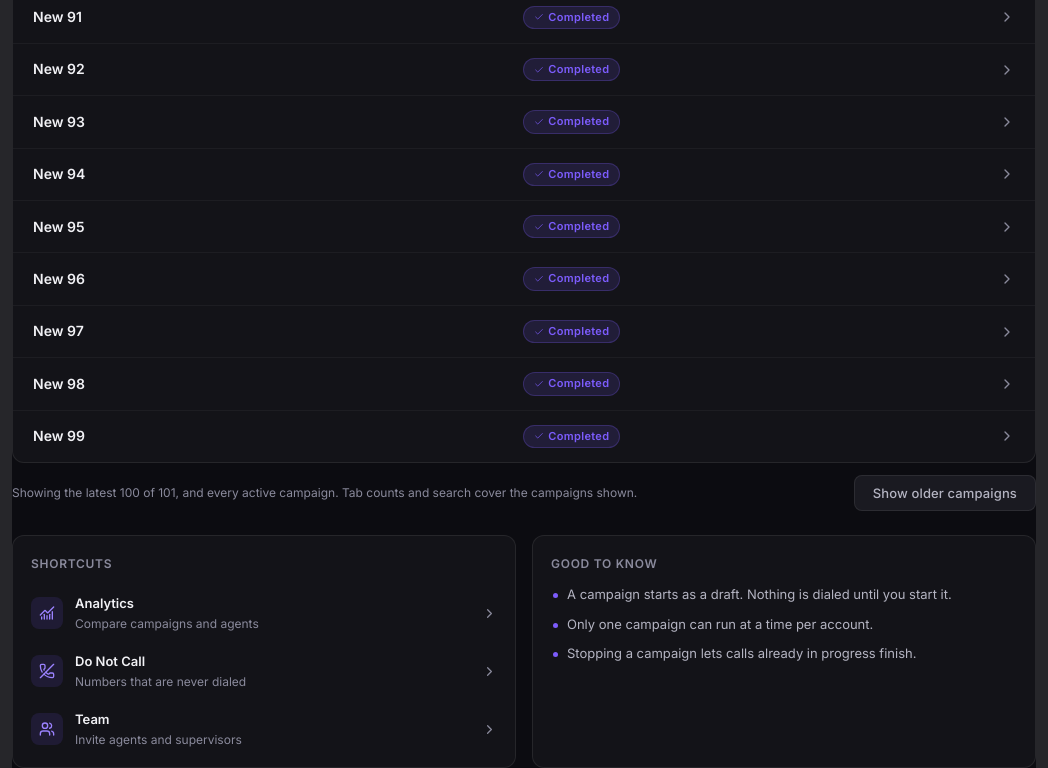
Test: AgencyCampaignsPage — the list › counts the account’s real total and loads older campaigns on request
(page scrolled)
Click the button "Show older campaigns". click: point(945, 493)
box: [854, 475, 1036, 511]
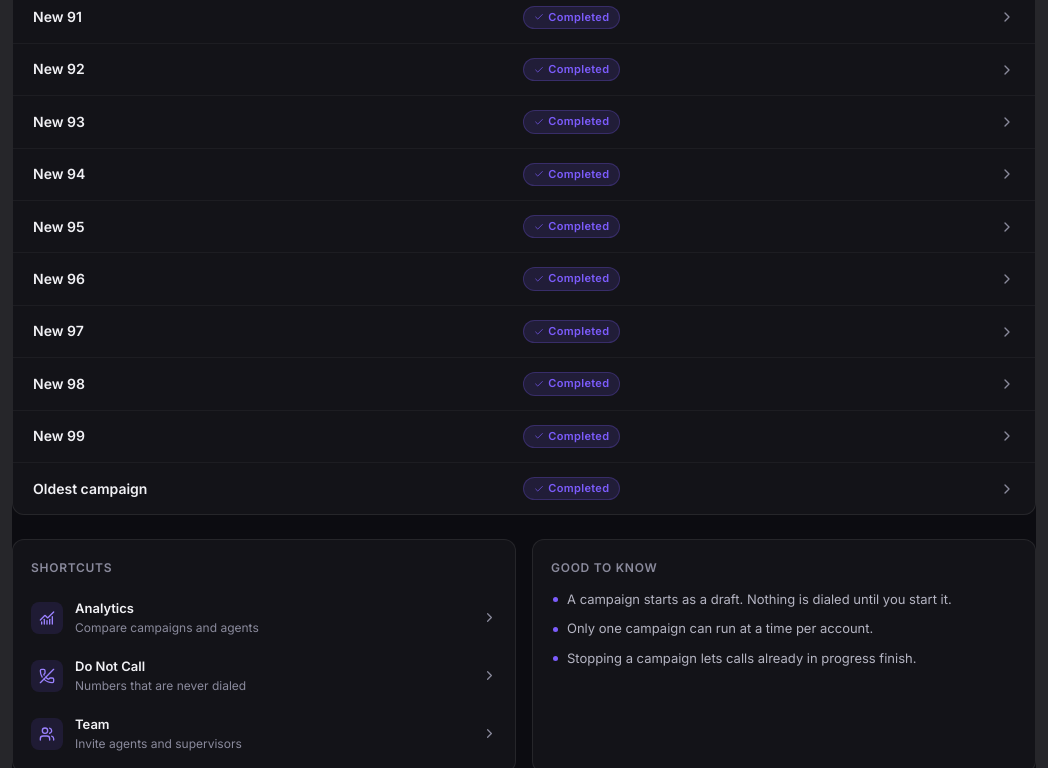
Check: the text "Oldest campaign" is shown, box [33, 480, 147, 496]
Check: the button "Show older campaigns" is gone
